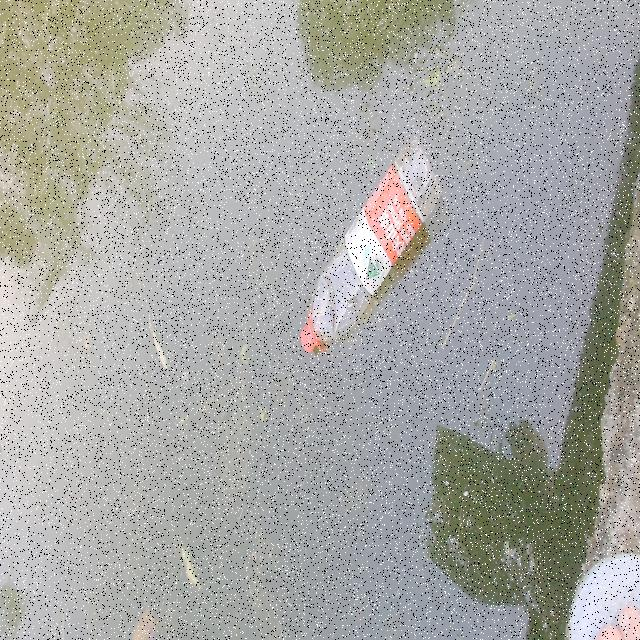Bottle: (294, 134, 442, 360)
